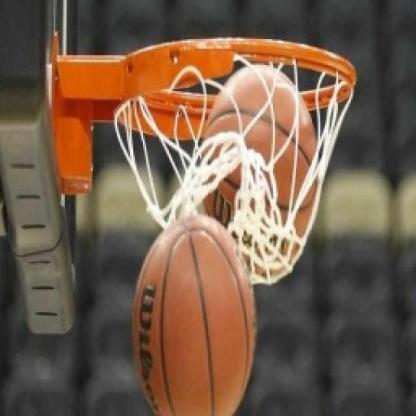basketball: (198, 62, 325, 286), (133, 214, 258, 416)
rim: (109, 38, 362, 260)
